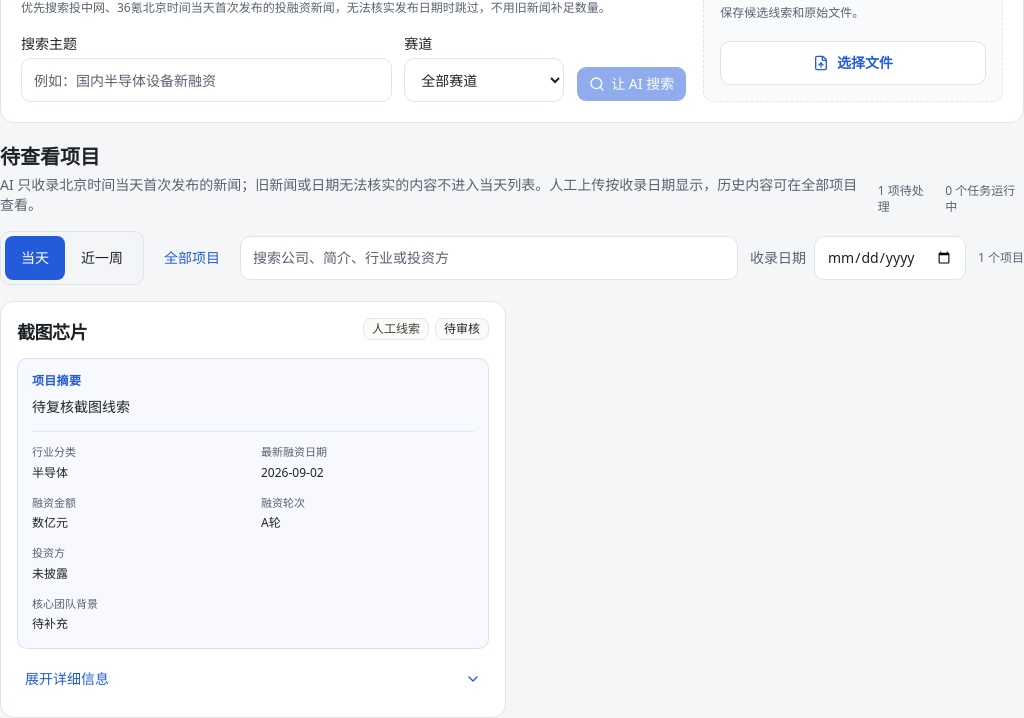
it: shows screenshot dates, rounds and amounts without inventing valuation, AI scores or source links
(page scrolled)
Expected: the text "人工线索" is shown, [363,318,429,340]
Expected: the text "待审核" is shown, [435,318,489,340]
Step 1. Click the button with aria-label "查看项目详情" → coordinates (67, 678), box [17,657,489,701]
(page scrolled)
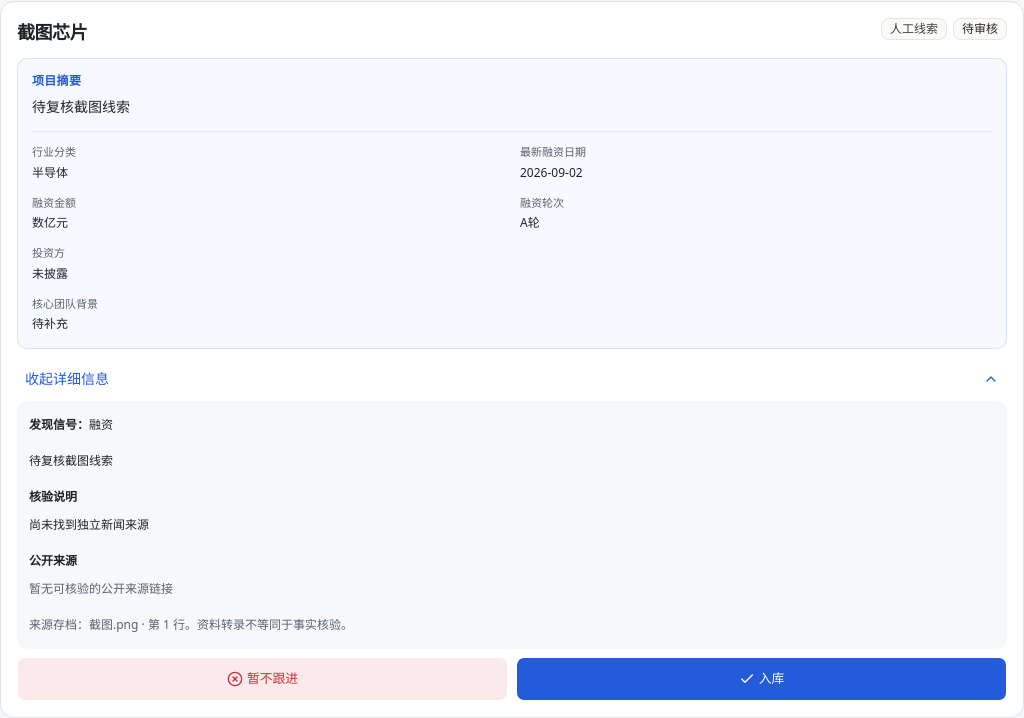
Now the text "尚未找到独立新闻来源" is shown, box [29,516,149,533]
Now the text "暂无可核验的公开来源链接" is shown, box [29,580,173,597]
